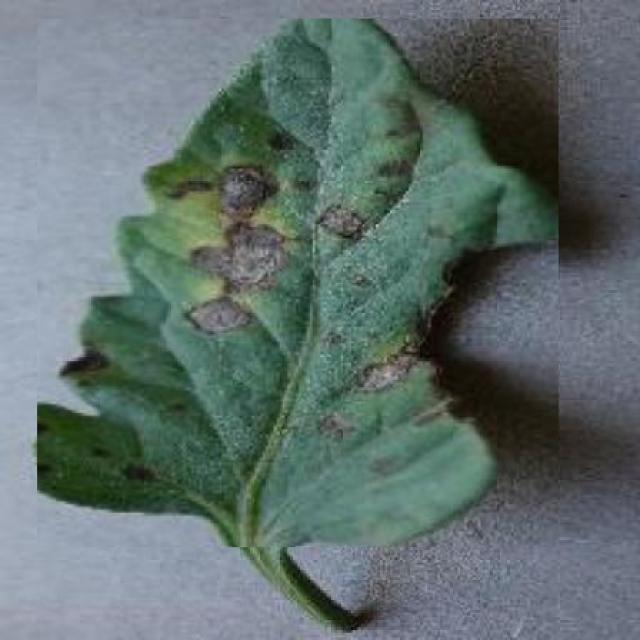Early Blight: (37, 19, 559, 547)
